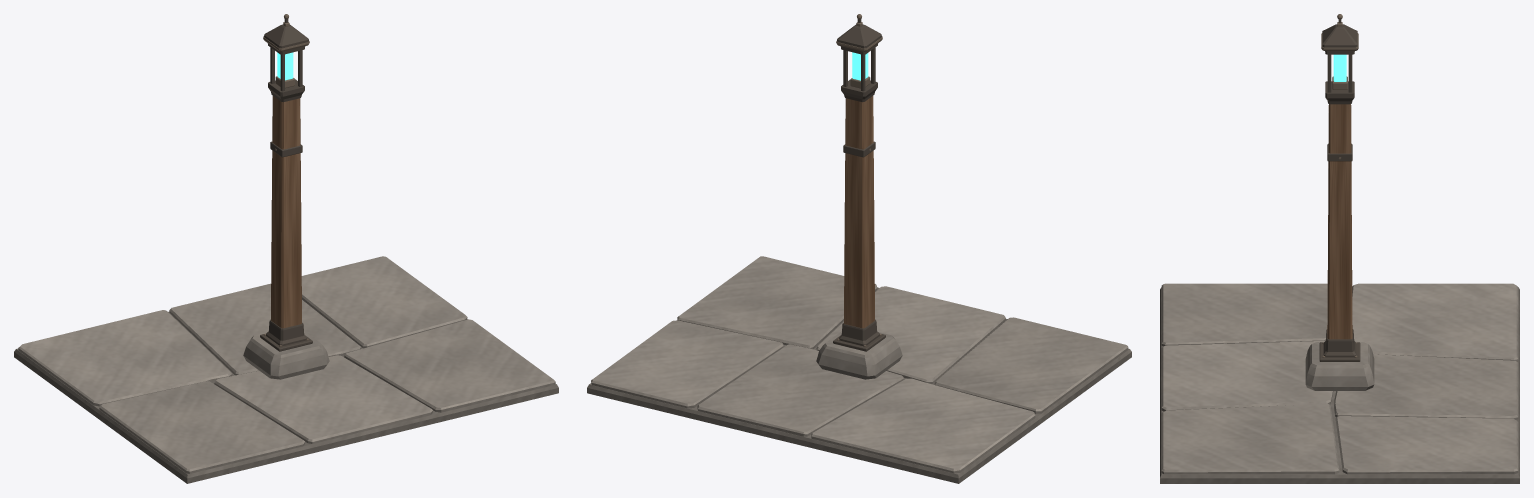
Rendered from camp-site-v1.glb.
3 renders of one model, left to right at view 1: azimuth 30°, elevation 25°; view 2: azimuth 150°, elevation 25°; view 3: azimuth 270°, elevation 25°, orthographic. The views are drawn at different scales.
Visible parts, largest first — view 1: C02_stone_batch, L01_timber_batch, L01_coated_iron_batch, L01_footing_batch; view 2: C02_stone_batch, L01_timber_batch, L01_coated_iron_batch, L01_footing_batch; view 3: C02_stone_batch, L01_timber_batch, L01_coated_iron_batch, L01_footing_batch, L01_fittings_batch, L01_lens.
Boxes of the visible parts, x1,y1,x2,y2 form: C02_stone_batch: [14, 256, 558, 483]; L01_timber_batch: [271, 96, 301, 328]; L01_coated_iron_batch: [260, 19, 312, 351]; L01_footing_batch: [243, 331, 329, 379]; C02_stone_batch: [587, 256, 1131, 483]; L01_timber_batch: [844, 96, 874, 328]; L01_coated_iron_batch: [833, 19, 885, 351]; L01_footing_batch: [816, 331, 902, 379]; C02_stone_batch: [1160, 283, 1519, 483]; L01_timber_batch: [1327, 104, 1352, 339]; L01_coated_iron_batch: [1319, 19, 1360, 361]; L01_footing_batch: [1305, 342, 1374, 390]; L01_fittings_batch: [1321, 14, 1358, 357]; L01_lens: [1333, 54, 1346, 81].
Bounding box in the file's own units: 3.1 × 2.88 × 2.5.
Materials: 5 (2 with a texture image).
